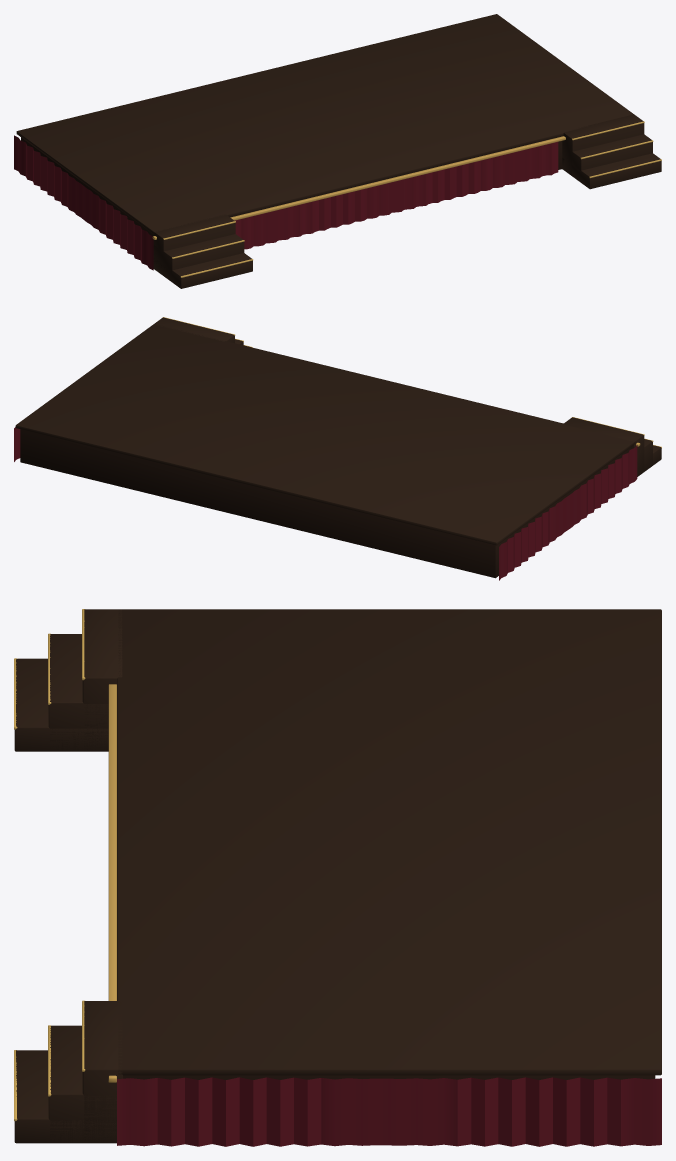
Rendered from stage.glb.
3 renders of one model, top to bottom at view 1: azimuth 30°, elevation 25°; view 2: azimuth 150°, elevation 25°; view 3: azimuth 270°, elevation 25°, orthographic. The views are drawn at different scales.
Parts seen in each view (by area): view 1: stage; view 2: stage; view 3: stage.
Part boxes in pixels (x1,y1,x2,y2): stage: (14, 14, 661, 288); stage: (14, 317, 661, 580); stage: (14, 609, 661, 1146).
Bounding box in the file's own units: 8.11 × 0.6 × 4.76.
